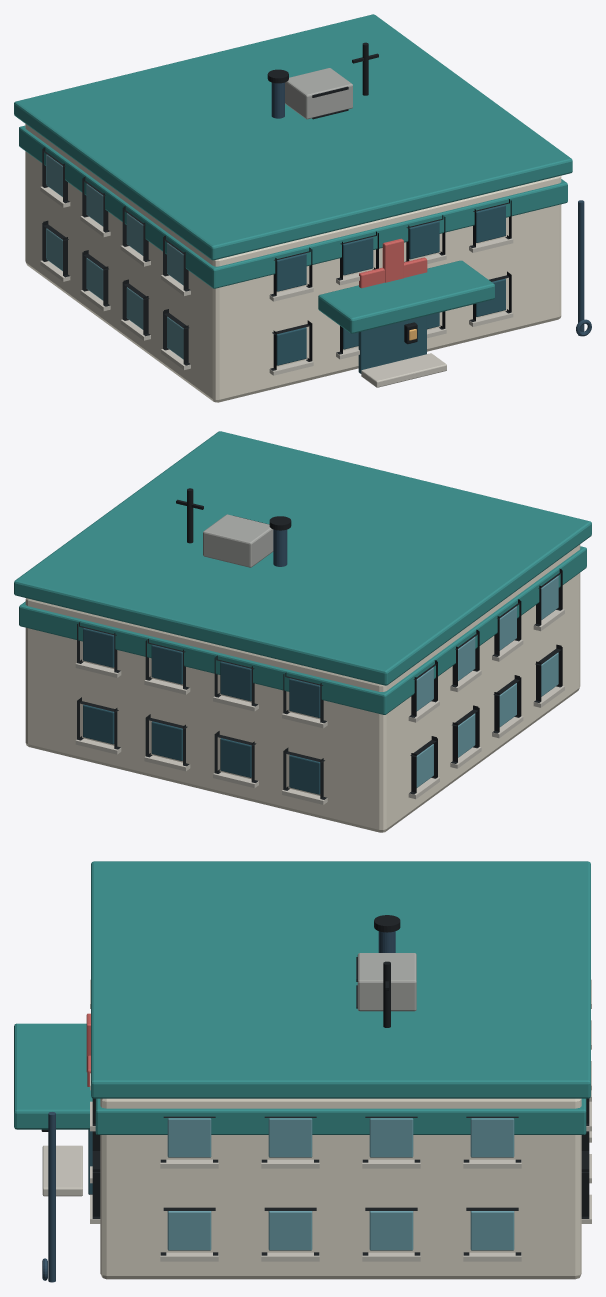
The model's file is CIV_HEALTH_2x2_002.glb.
3 views of the same model, one above another, from view 1: azimuth 30°, elevation 25°; view 2: azimuth 150°, elevation 25°; view 3: azimuth 270°, elevation 25° (orthographic). The views are drawn at different scales.
Parts seen in each view (by area): view 1: CIV_HEALTH_2x2_002_Visual; view 2: CIV_HEALTH_2x2_002_Visual; view 3: CIV_HEALTH_2x2_002_Visual.
Part boxes in pixels (left/top/right/bottom): CIV_HEALTH_2x2_002_Visual: left=14, top=14, right=591, bottom=402; CIV_HEALTH_2x2_002_Visual: left=14, top=431, right=591, bottom=832; CIV_HEALTH_2x2_002_Visual: left=14, top=861, right=591, bottom=1282.
Size of what is drawn, in the model's own units: 3.38 by 1.9 by 3.72.
